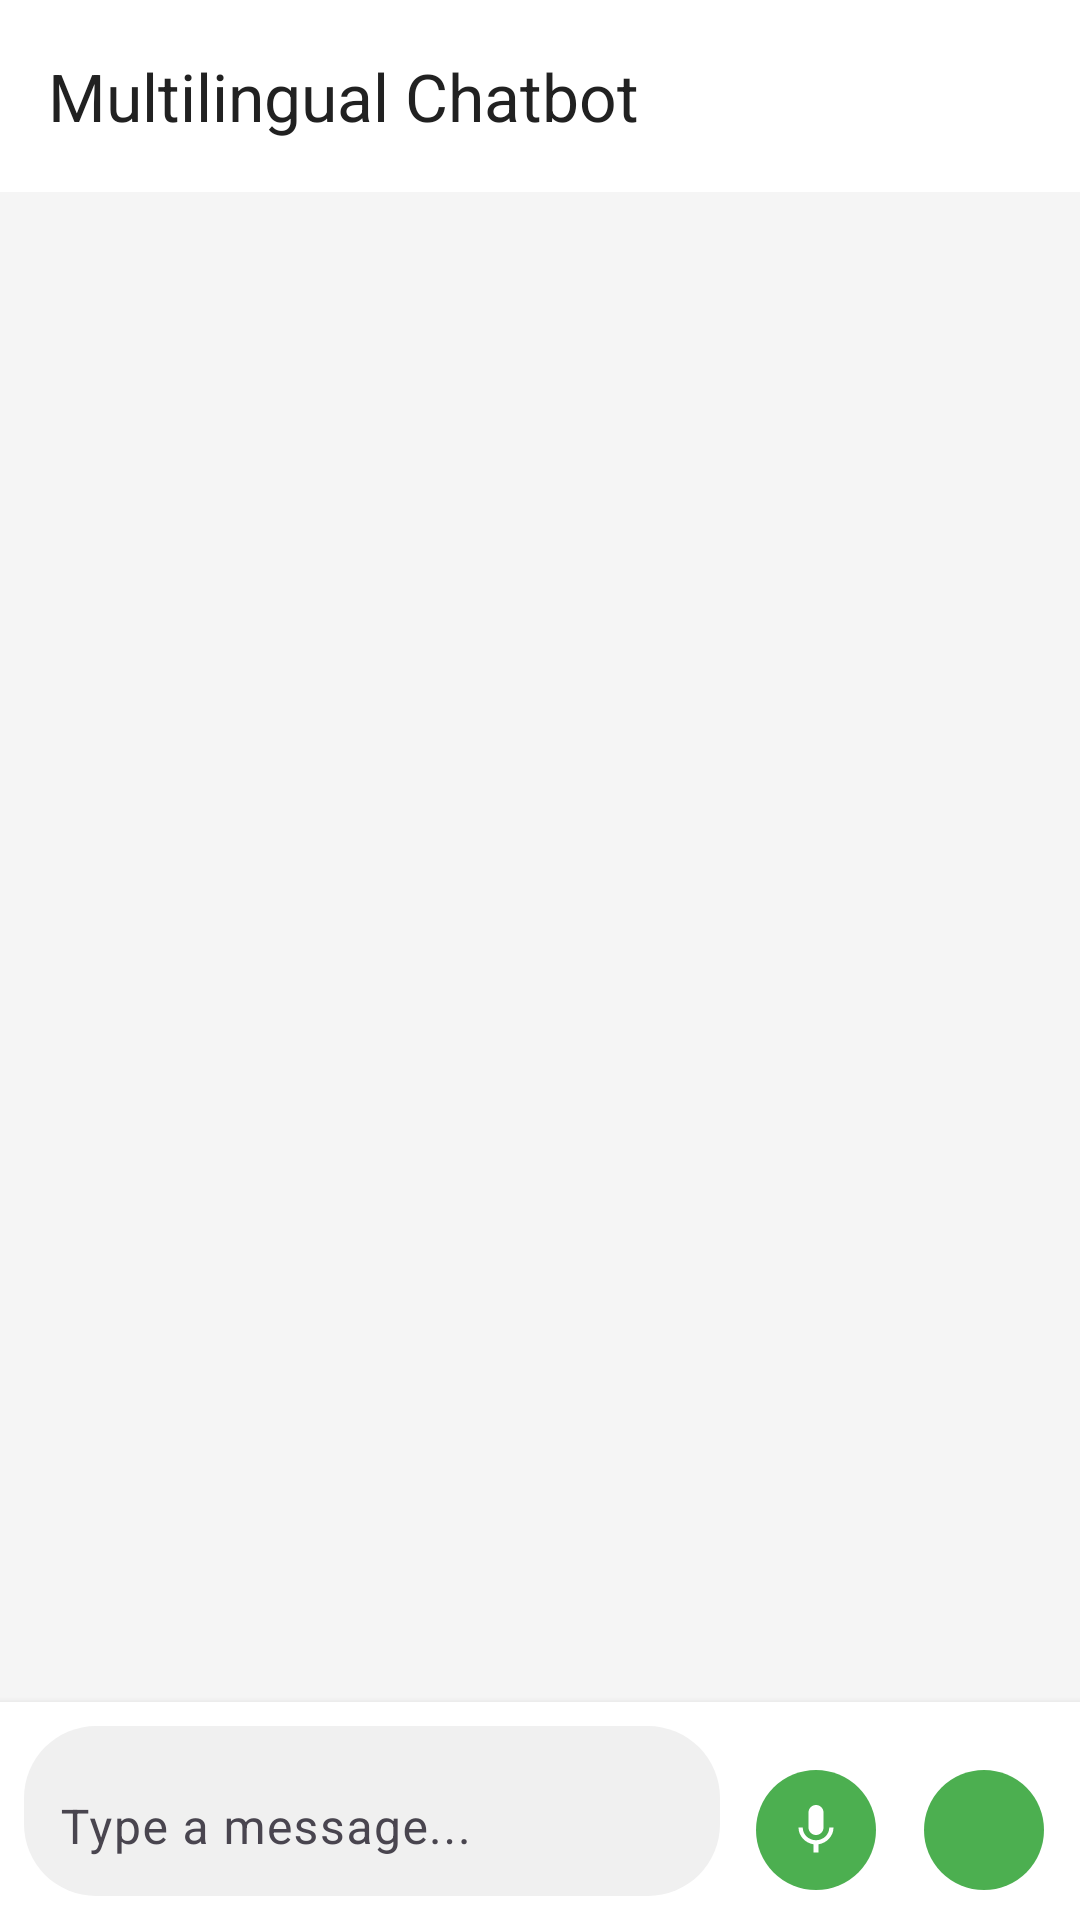

Point at icon controls on the screen. Image size 1080*1920, points as (x,y).
mic: (816,1830)
